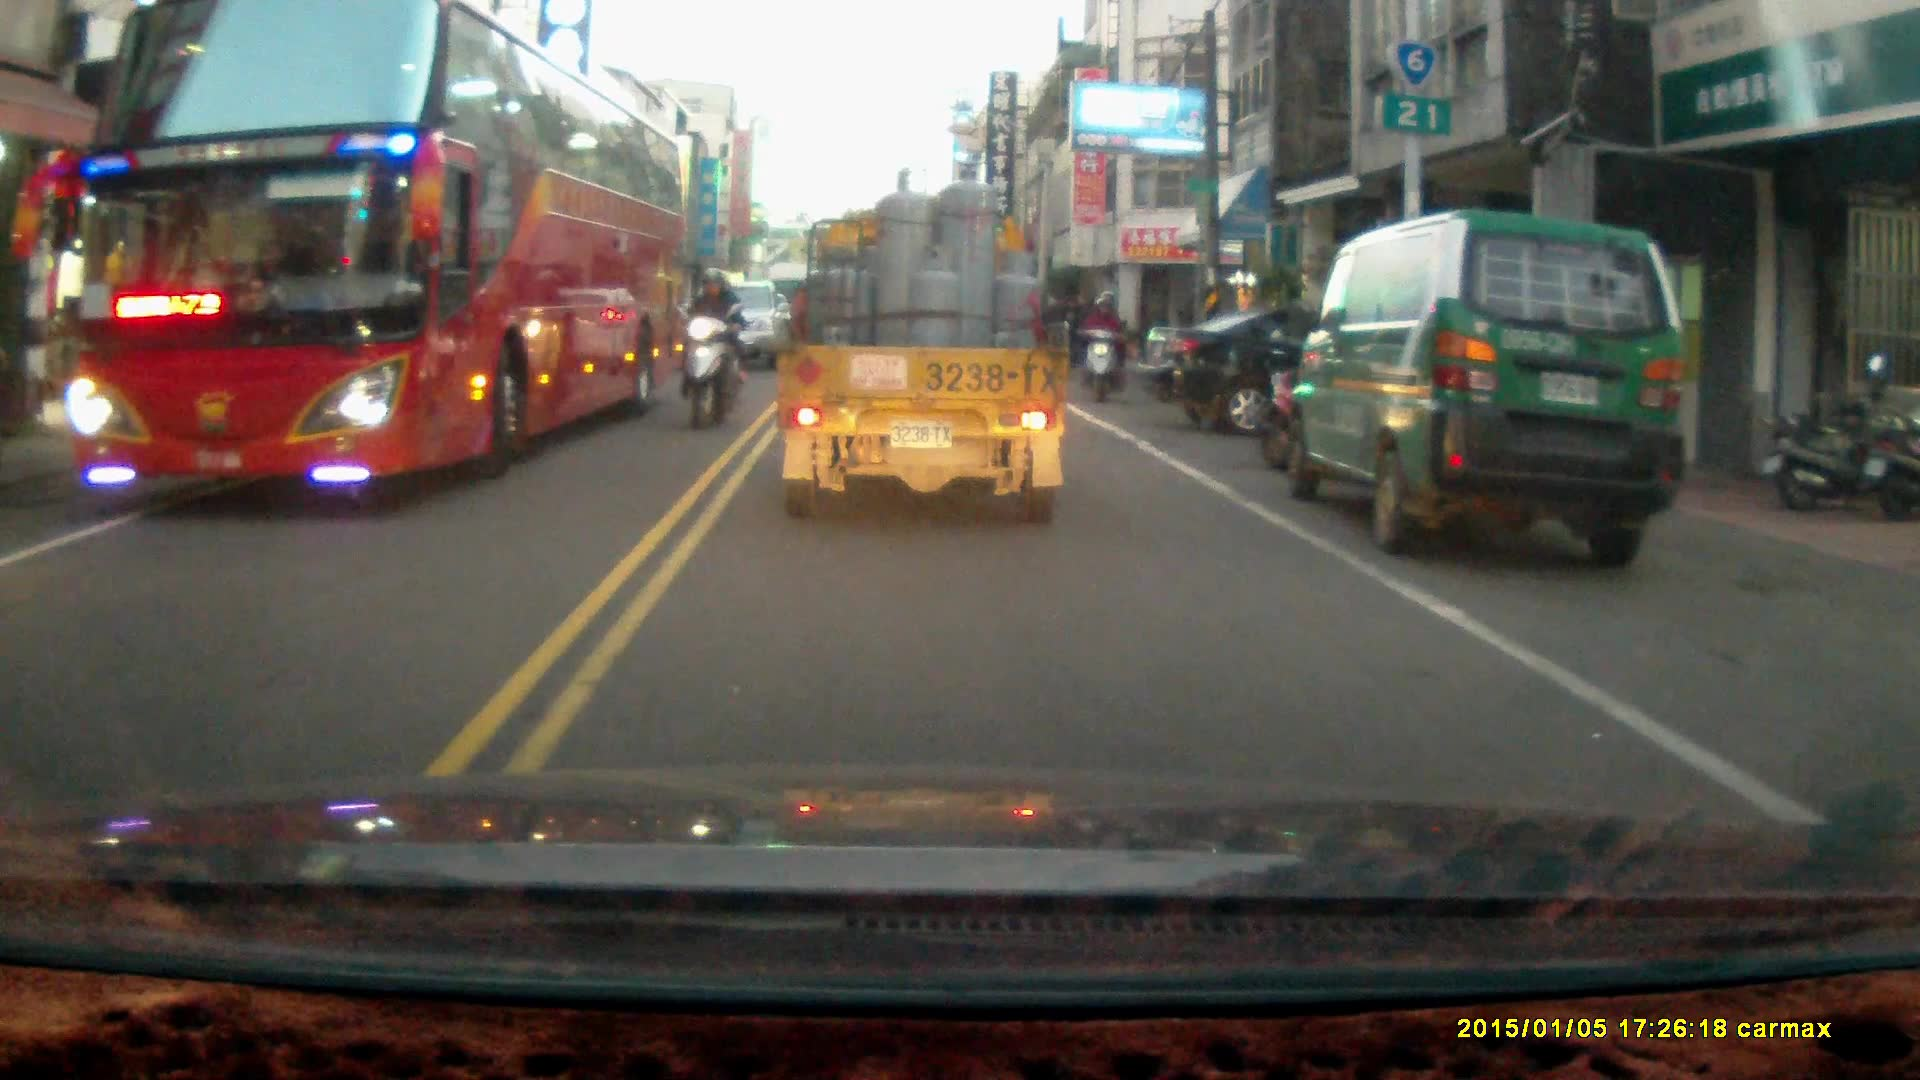rider: (669, 265, 744, 431), (1075, 289, 1128, 402)
vehicle: (55, 20, 691, 498), (1287, 202, 1690, 564), (777, 159, 1068, 526), (1142, 302, 1502, 436), (680, 277, 799, 376)
